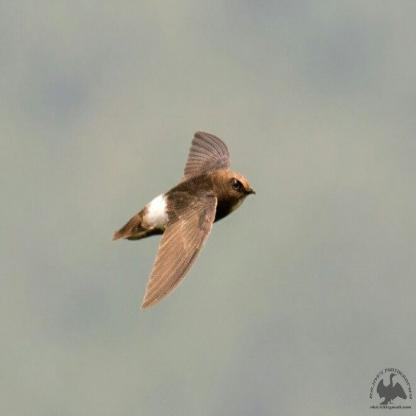Burung: (111, 131, 255, 308)
